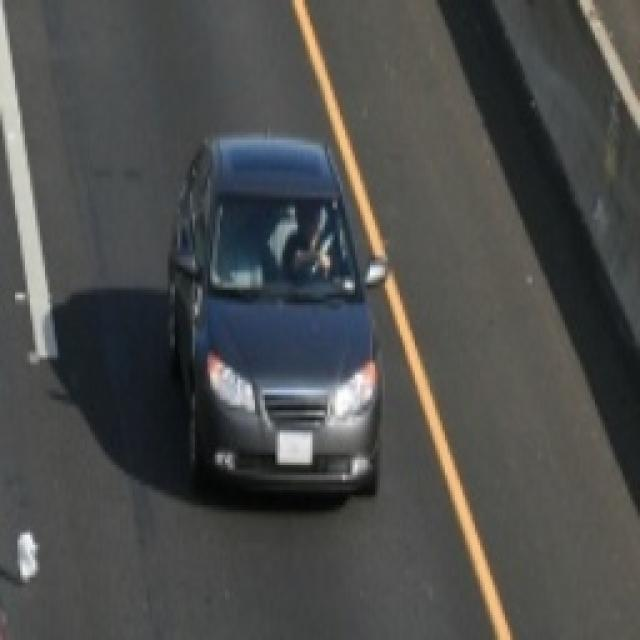windshield: (203, 185, 372, 308)
